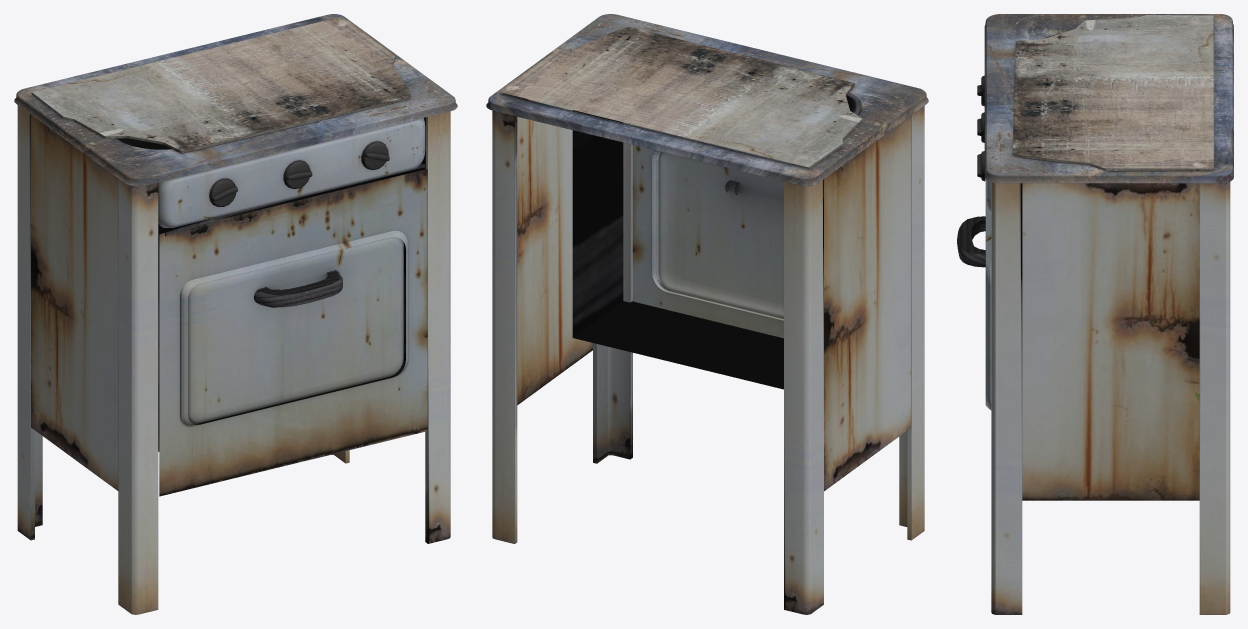
The model's file is gazstove.FBX.
The picture shows the model from 3 angles, left to right: view 1: azimuth 30°, elevation 25°; view 2: azimuth 150°, elevation 25°; view 3: azimuth 270°, elevation 25°; orthographic projection.
Visible parts, largest first — view 1: gazstove; view 2: gazstove; view 3: gazstove.
Boxes of the visible parts, x1=… form: gazstove: x1=14, y1=14, x2=457, y2=614; gazstove: x1=486, y1=14, x2=928, y2=614; gazstove: x1=957, y1=14, x2=1233, y2=614.
Bounding box in the file's own units: 81.35 × 104 × 58.32.
